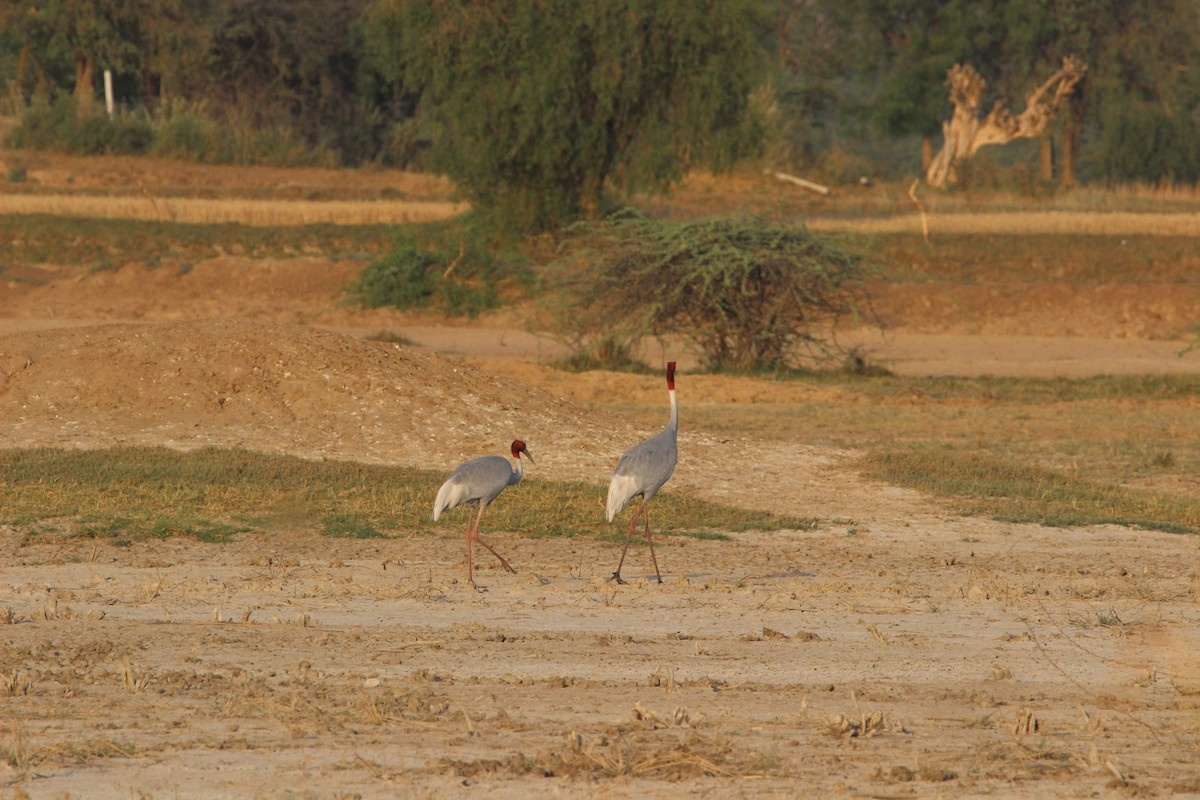crane: (603, 357, 687, 587), (427, 428, 541, 587)
